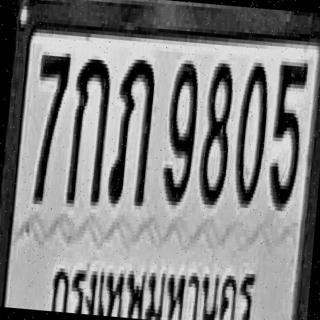A01: (65, 54, 112, 206)
A32: (106, 54, 157, 206)
N00: (231, 58, 271, 209)
N05: (266, 57, 308, 208)
N07: (28, 49, 70, 204)
N08: (197, 58, 236, 205)
N09: (161, 61, 201, 204)
P04: (43, 244, 260, 320)
